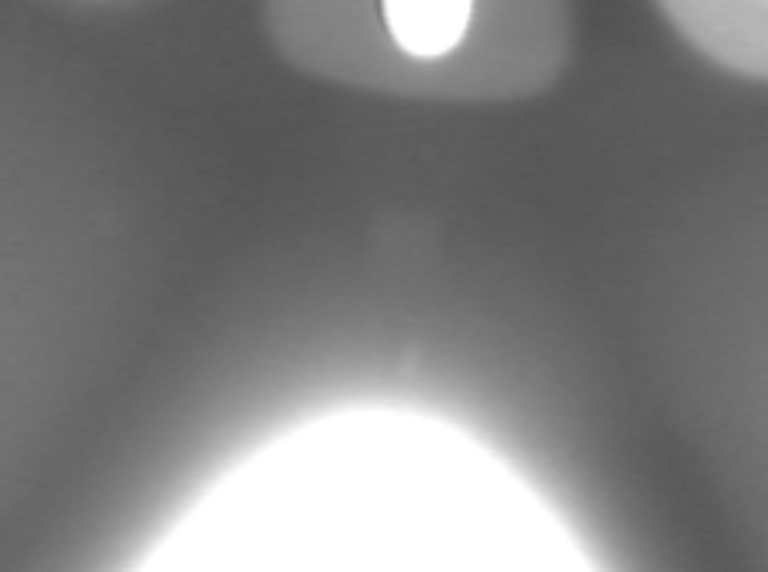defect: (99, 216, 136, 258)
